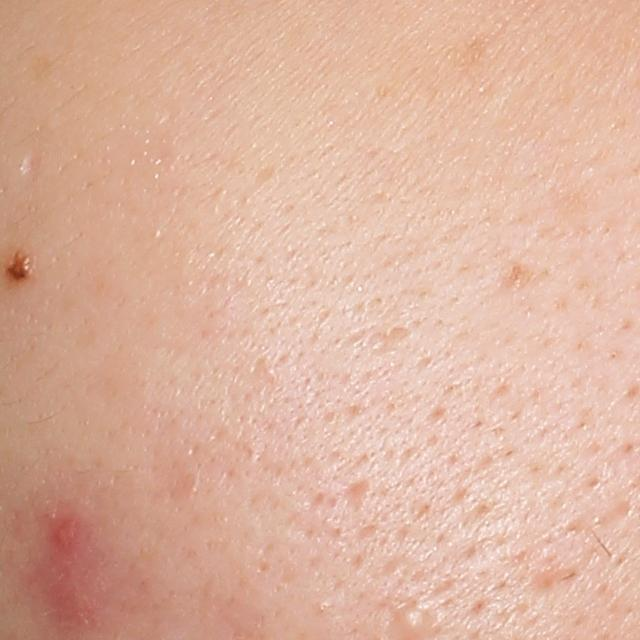atrophic_scar: (524, 568, 585, 599), (362, 322, 417, 355), (342, 476, 375, 516)
papule: (45, 506, 85, 558)
